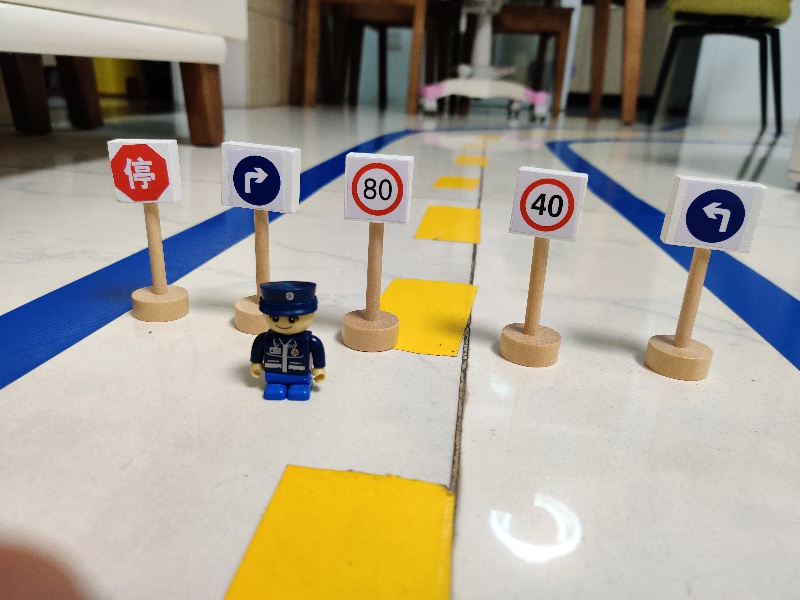limit_40: (506, 164, 590, 245)
limit_80: (340, 149, 415, 226)
person: (248, 279, 328, 402)
stop: (103, 136, 185, 204)
turn_left: (658, 173, 770, 254)
turn_right: (216, 137, 302, 216)
